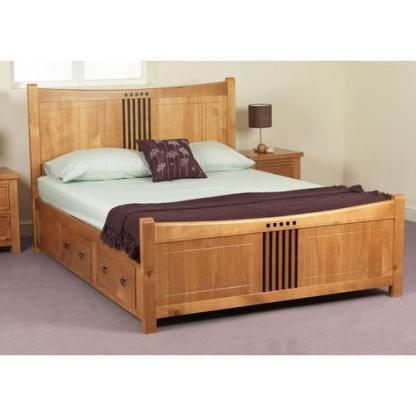bed: (32, 77, 416, 332)
light: (246, 100, 273, 159)
table: (0, 166, 21, 262), (252, 150, 306, 179)
